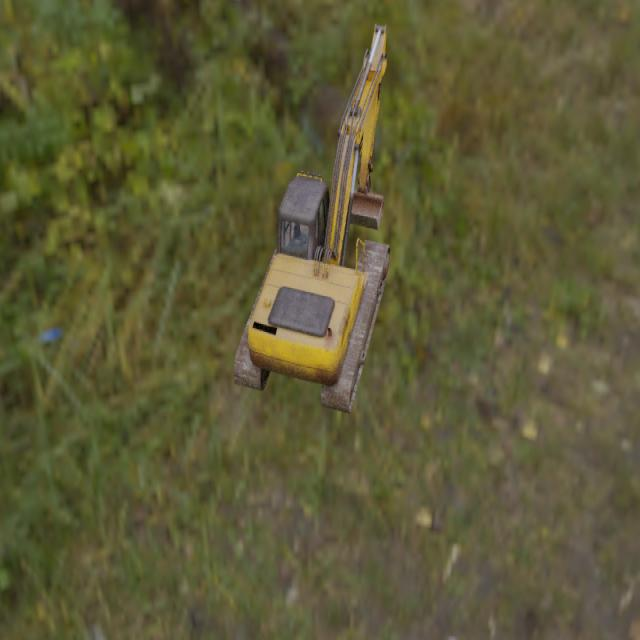excavator: (233, 23, 390, 413)
